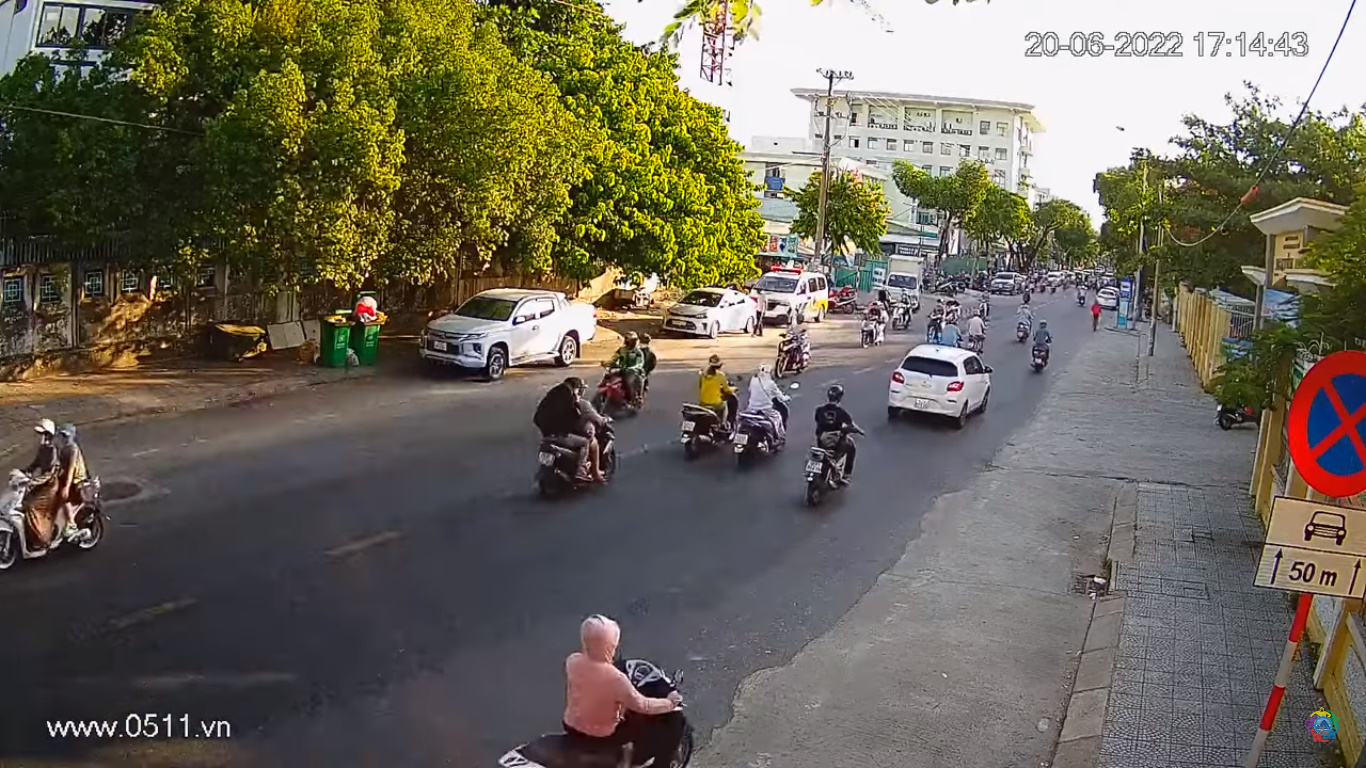car: (884, 342, 992, 423)
